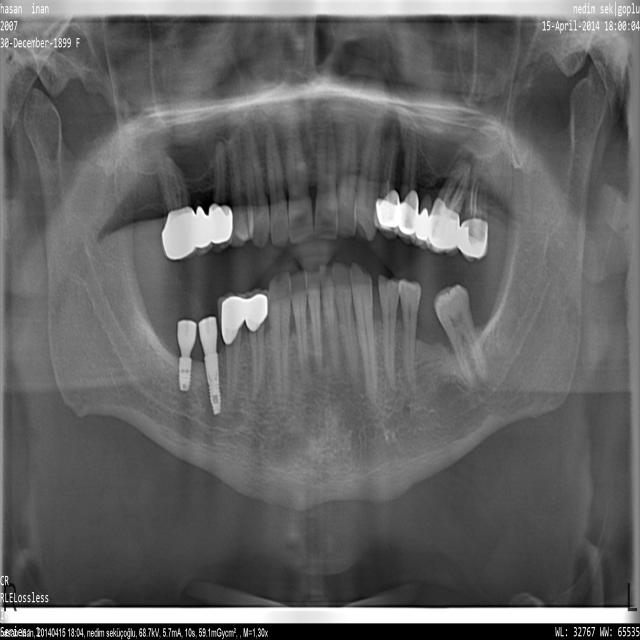Canine: (350, 262, 378, 408), (356, 111, 384, 241), (268, 272, 290, 420), (245, 118, 270, 248)
Incisores: (286, 107, 314, 244), (333, 263, 359, 386), (316, 104, 338, 240), (267, 123, 290, 247), (319, 264, 343, 377), (338, 105, 357, 239), (290, 271, 309, 389), (306, 271, 324, 380)
Premolars: (217, 293, 245, 414), (227, 118, 253, 247), (377, 121, 400, 239), (245, 288, 268, 403), (377, 274, 399, 392), (399, 277, 421, 394), (211, 134, 231, 253), (399, 122, 418, 244)
molars: (434, 284, 488, 389), (428, 159, 471, 257), (162, 156, 195, 261), (460, 165, 489, 262), (199, 315, 221, 416), (177, 319, 197, 393), (413, 194, 431, 248), (196, 207, 211, 256)
